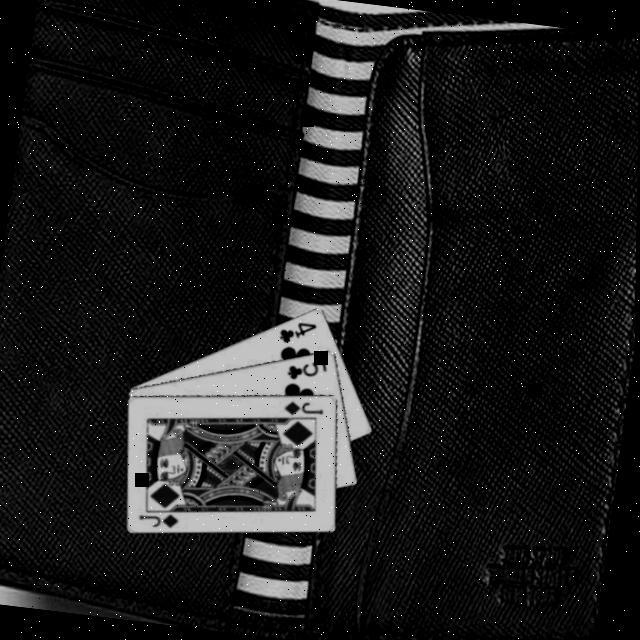4C: (275, 315, 320, 348)
5C: (283, 352, 330, 385)
JD: (135, 505, 182, 531), (281, 394, 327, 419)
